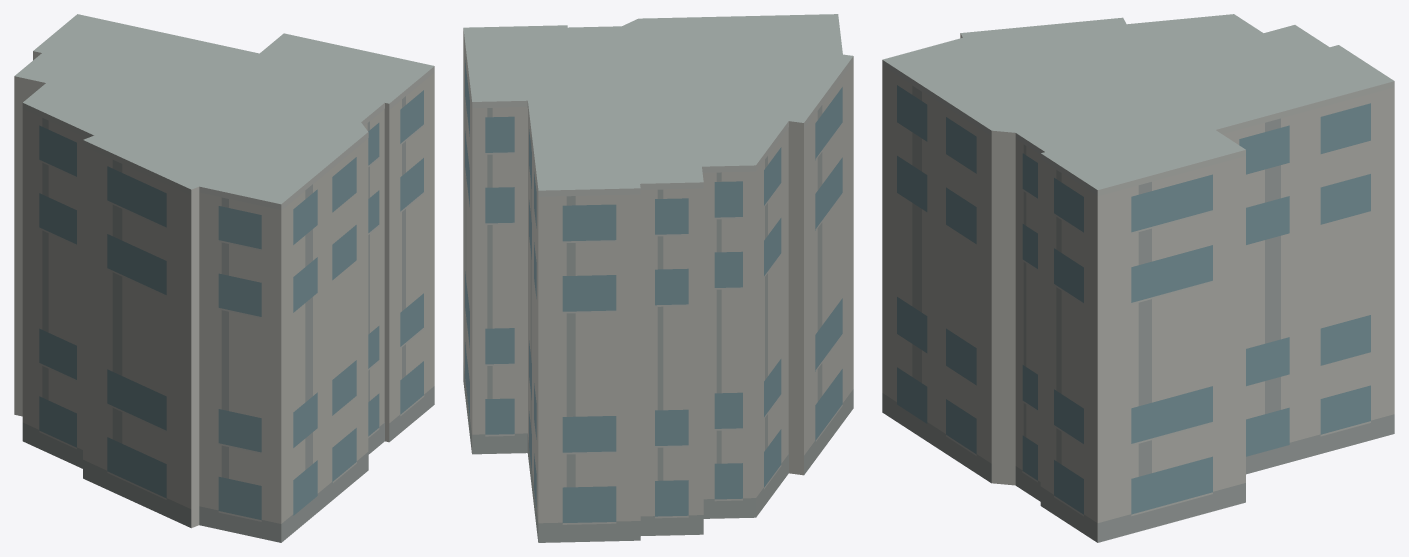
Rendered from survey-upis-32792695.glb.
The picture shows the model from 3 angles, left to right: view 1: azimuth 30°, elevation 25°; view 2: azimuth 150°, elevation 25°; view 3: azimuth 270°, elevation 25°; orthographic projection. The views are drawn at different scales.
Visible parts, largest first — view 1: survey-upis-32792695.tmp; view 2: survey-upis-32792695.tmp; view 3: survey-upis-32792695.tmp.
Part boxes in pixels (x1,y1,x2,y2): survey-upis-32792695.tmp: (14,14,434,542); survey-upis-32792695.tmp: (463,14,853,542); survey-upis-32792695.tmp: (882,14,1394,542).
Size of the model in its own units: 14.69 by 13.7 by 18.05.
